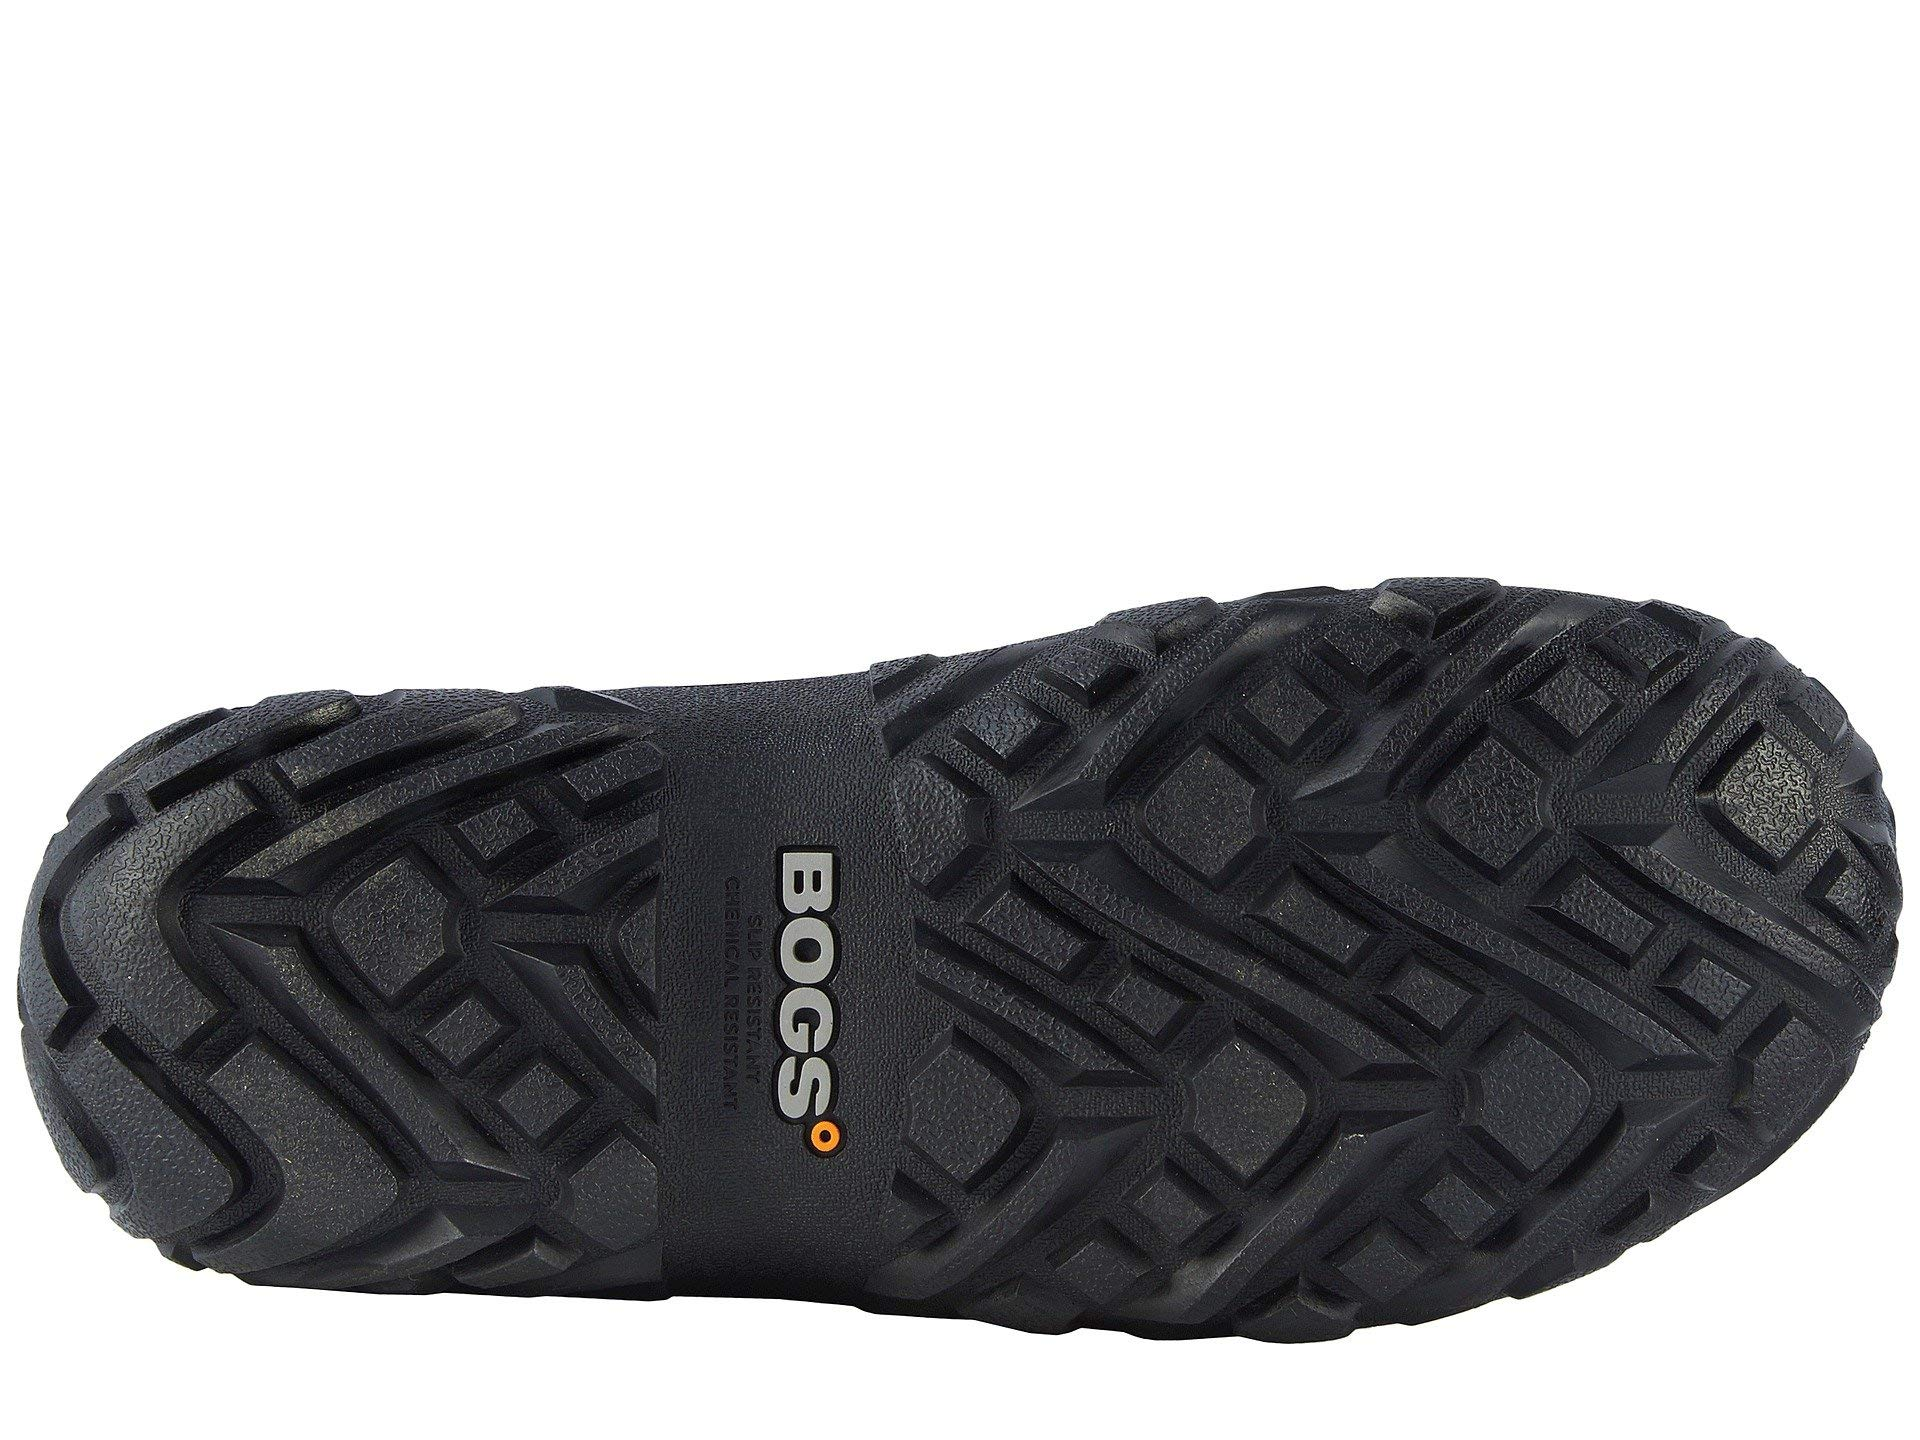circle: (673, 764, 872, 1190)
line: (1008, 638, 1699, 1204), (63, 986, 624, 1260)
other: (63, 986, 624, 1260)
quad: (1008, 638, 1699, 1204), (63, 986, 624, 1260)
text: (673, 764, 872, 1190)
